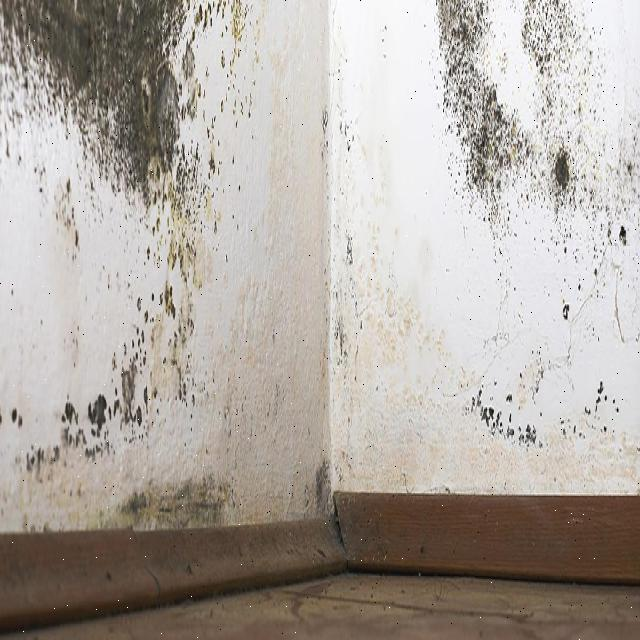dampness: (0, 13, 256, 475), (417, 9, 635, 269)
